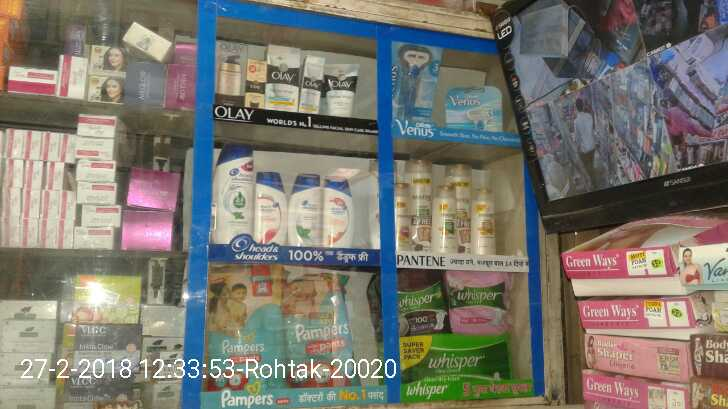venus: (397, 43, 438, 130), (445, 88, 504, 133)
